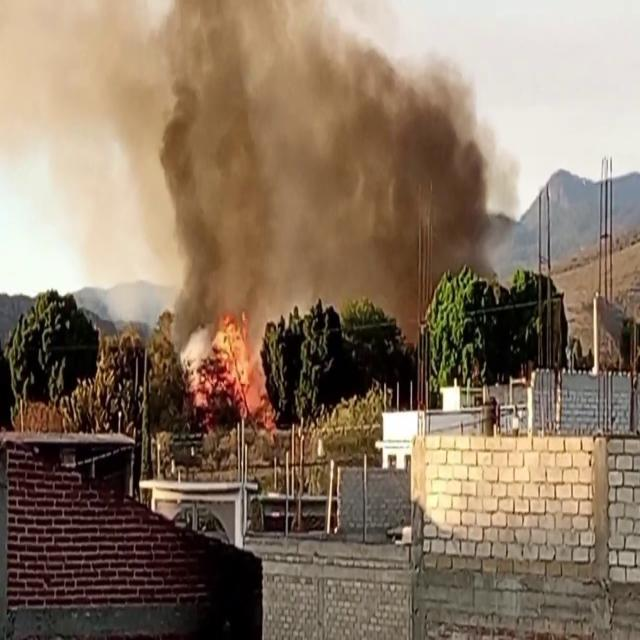Fire: (192, 311, 276, 424)
Smoke: (99, 1, 501, 334)
